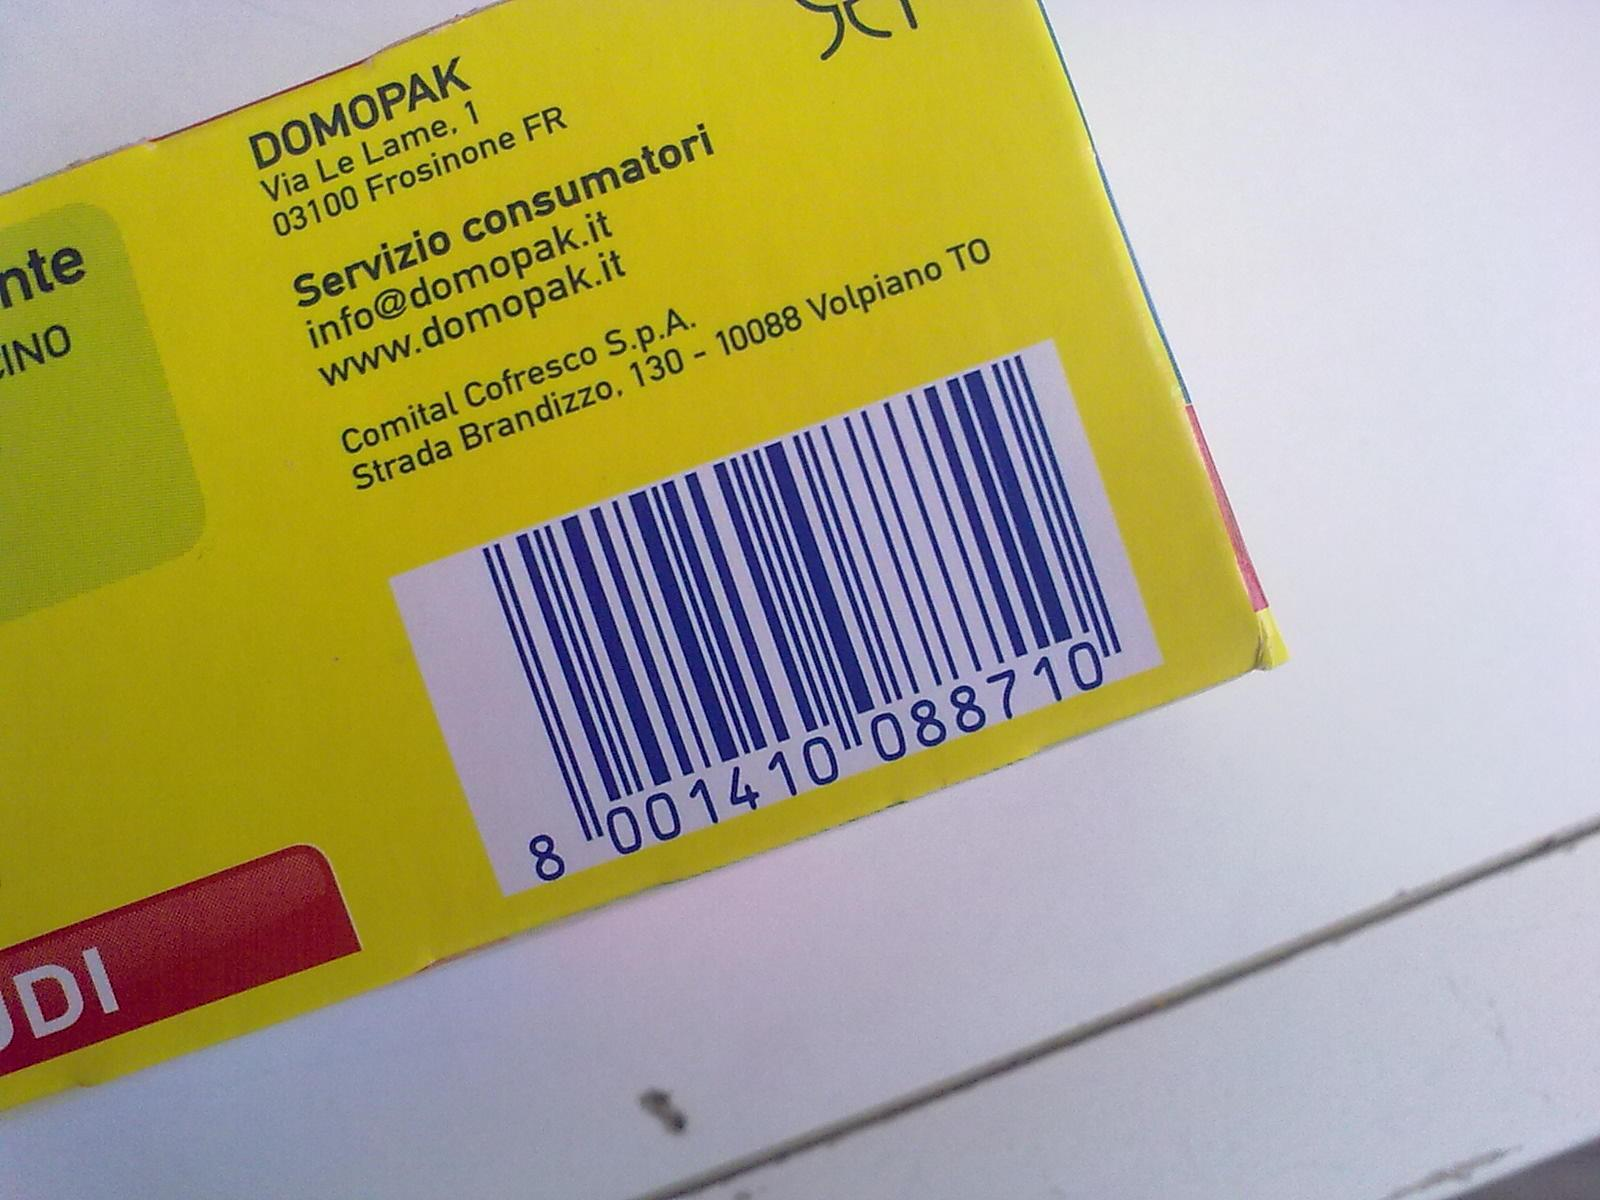barcode: (401, 342, 1168, 896)
